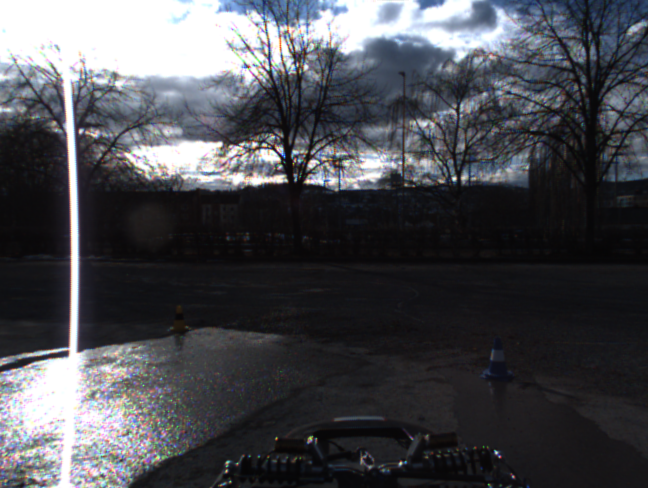cone-small-blue: (479, 336, 514, 381)
cone-small-yellow: (168, 305, 191, 333)
